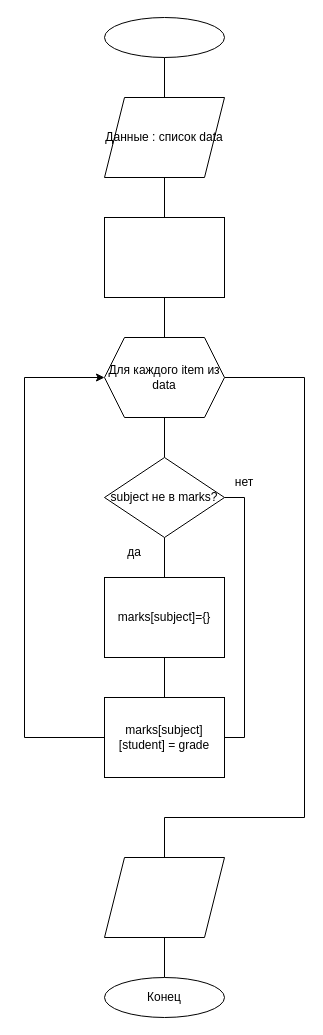
Some shapes in this 323 by 1035 pixel diagram are drawn without their labels. Each missing label, with the centre of its shape:
"marks_by_subject = {}" belongs at point (164, 257).
"Вывод : marks_by_subject" belongs at point (164, 897).
"Начало" belongs at point (164, 37).
